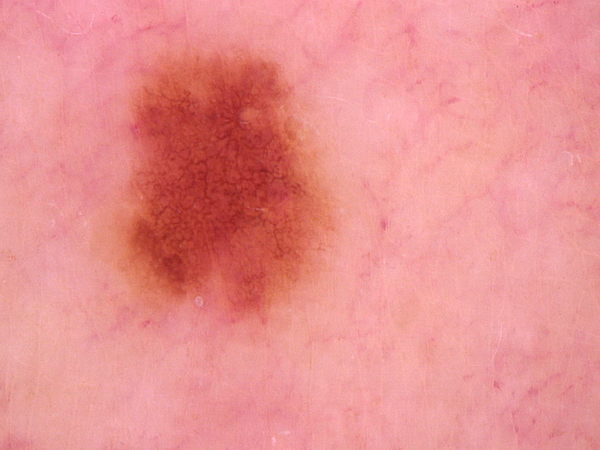Detected Lesion: (107, 43, 340, 331)
